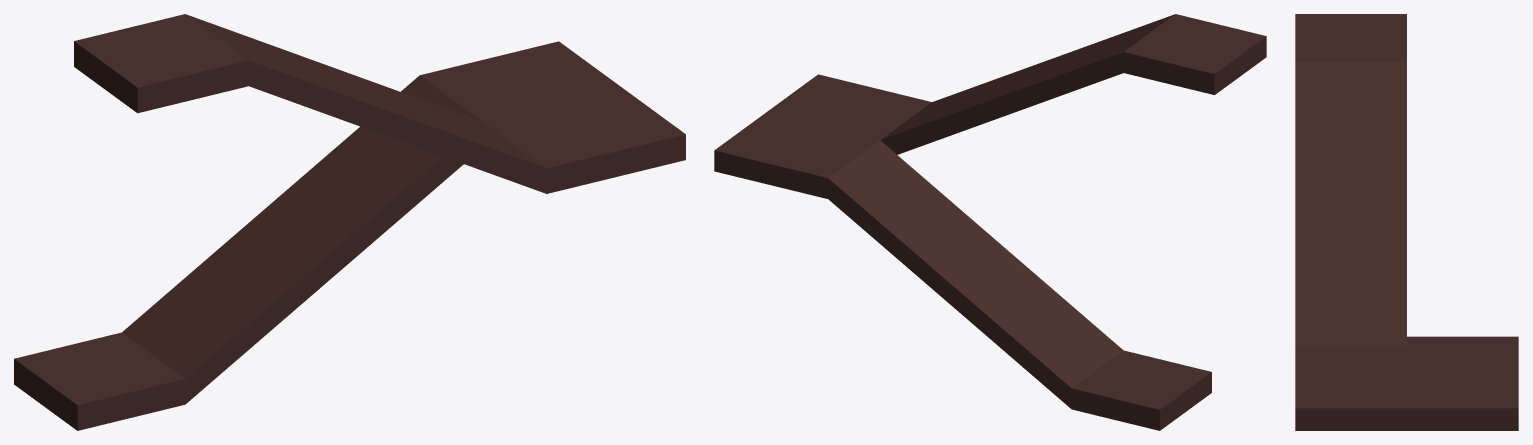
File: Stairway.glb
3 renders of one model, left to right at view 1: azimuth 30°, elevation 25°; view 2: azimuth 150°, elevation 25°; view 3: azimuth 270°, elevation 25°, orthographic. The views are drawn at different scales.
Parts seen in each view (by area): view 1: StairWay; view 2: StairWay; view 3: StairWay.
Part boxes in pixels (x1,y1,x2,y2): StairWay: [14, 14, 685, 430]; StairWay: [714, 14, 1266, 430]; StairWay: [1295, 14, 1518, 430].
Bounding box in the file's own units: 9.97 × 6.79 × 4.
